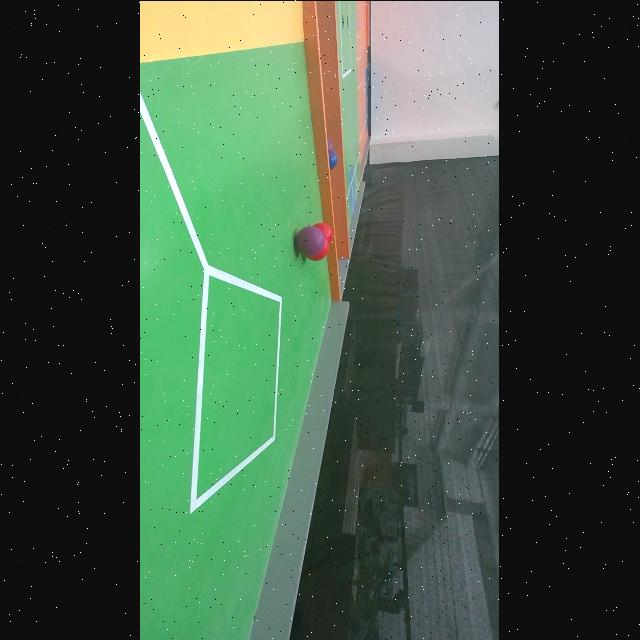P: (296, 226, 326, 254)
R: (308, 237, 330, 260)
